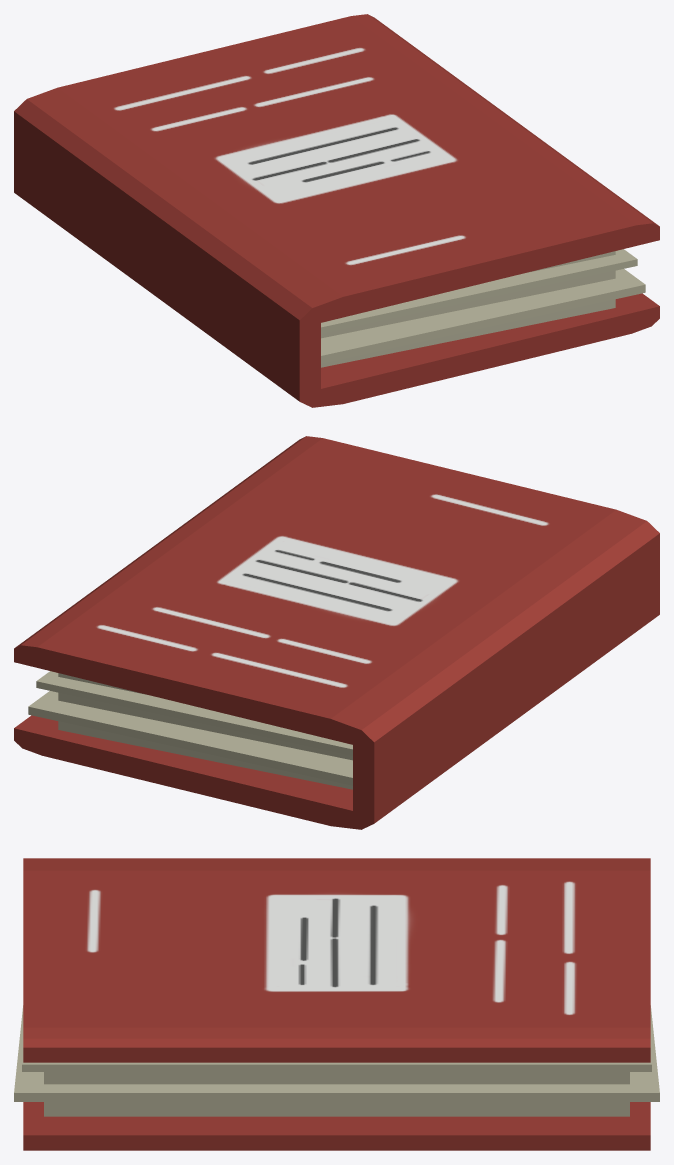
File: book.fbx
3 views of the same model, one above another, from view 1: azimuth 30°, elevation 25°; view 2: azimuth 150°, elevation 25°; view 3: azimuth 270°, elevation 25° (orthographic). The views are drawn at different scales.
Parts seen in each view (by area): view 1: book; view 2: book; view 3: book.
Part boxes in pixels (x1,y1,x2,y2): book: [14, 14, 659, 407]; book: [14, 436, 659, 829]; book: [14, 858, 659, 1150].
Bounding box in the file's own units: 140 × 39.84 × 198.
